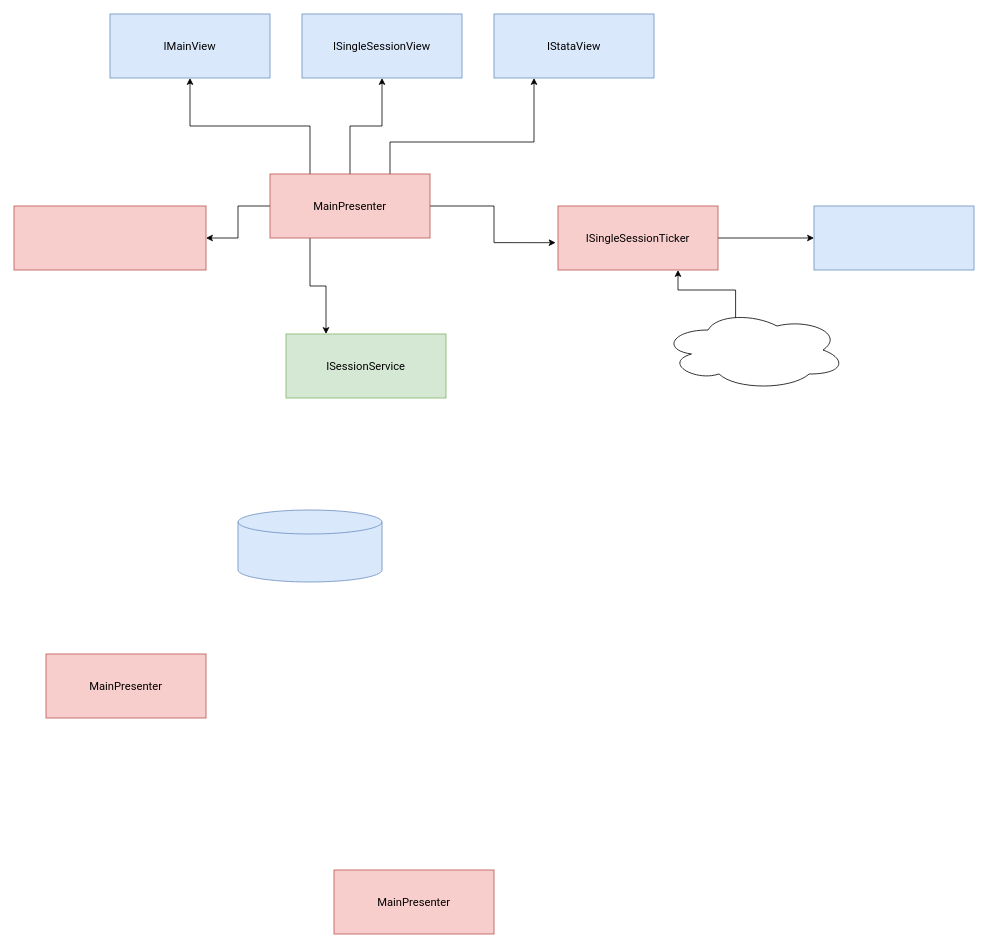
This 988x948 diagram has some shape labels left out. Here are the shapes that lost their labels. From the top down, the box of each, then its label:
(13, 205, 206, 270): IDirectorySelectorBoxPresenter
(813, 205, 974, 270): ISessionTickerView
(661, 309, 846, 390): Нужен ли здесь интерфейс? Это просто логика, объект механизма.
